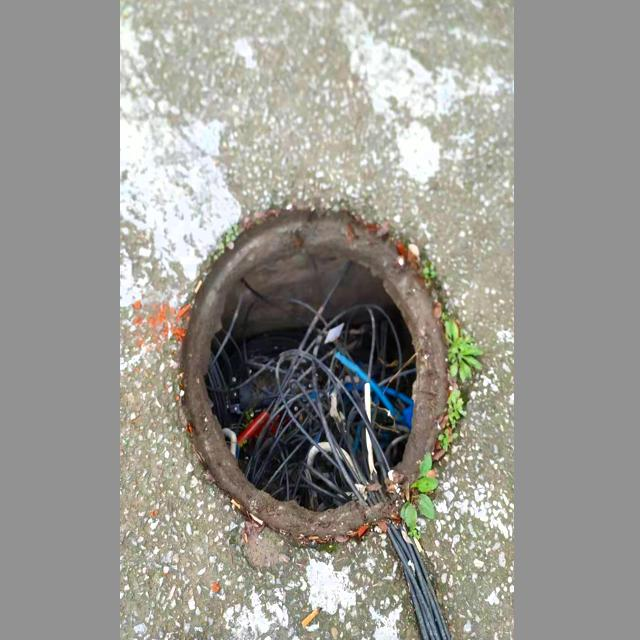lose: (169, 202, 458, 542)
